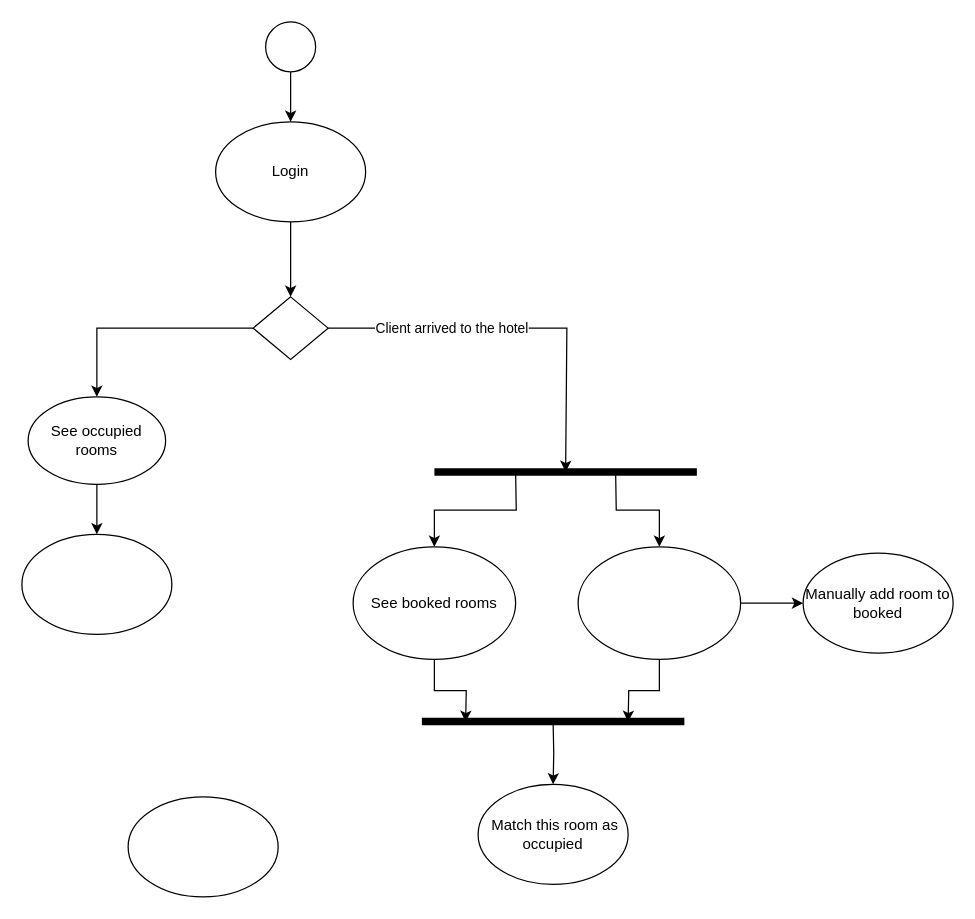
Some shapes in this 975 by 919 pixel diagram are drawn without their labels. The shapes that lost their labels are listed below. From the top down, each one's centre as x and y in pixels, then its label:
At point (96, 583): "See what type of service requested".
At point (659, 602): "Book room for custormer in place".
At point (202, 846): "Provide custom serevice request".
